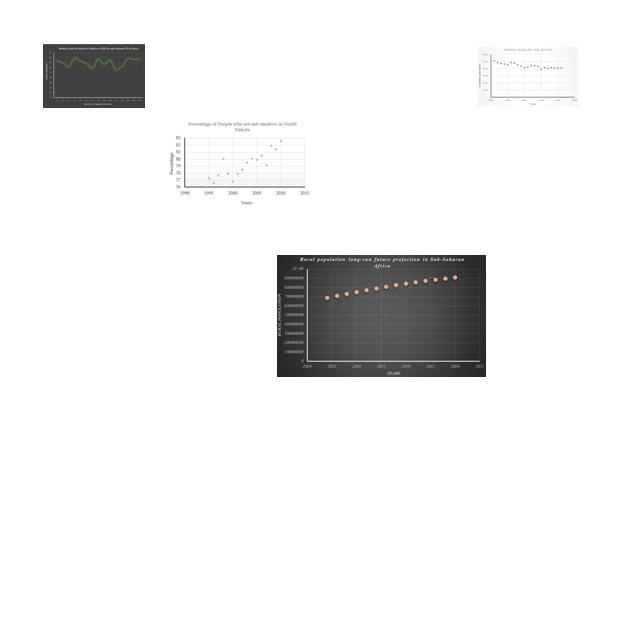Graph: (277, 255, 486, 377), (166, 119, 313, 207), (43, 44, 145, 108), (478, 47, 578, 106)
